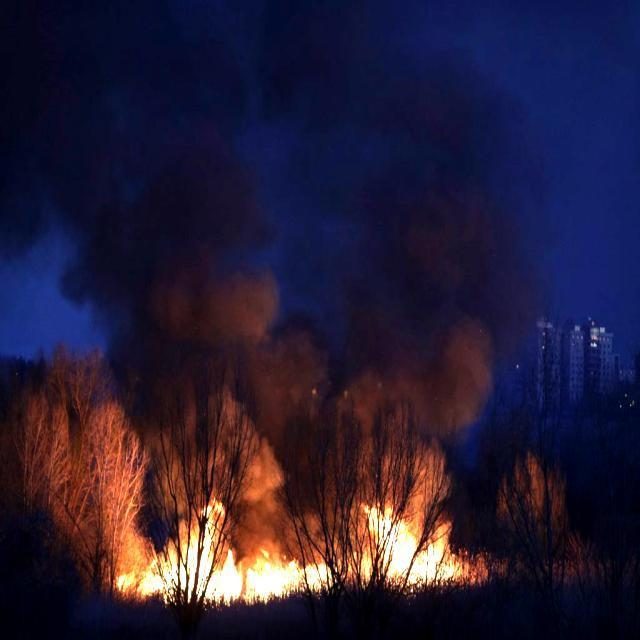Fire: (126, 508, 463, 604)
Smoke: (12, 5, 504, 523)
